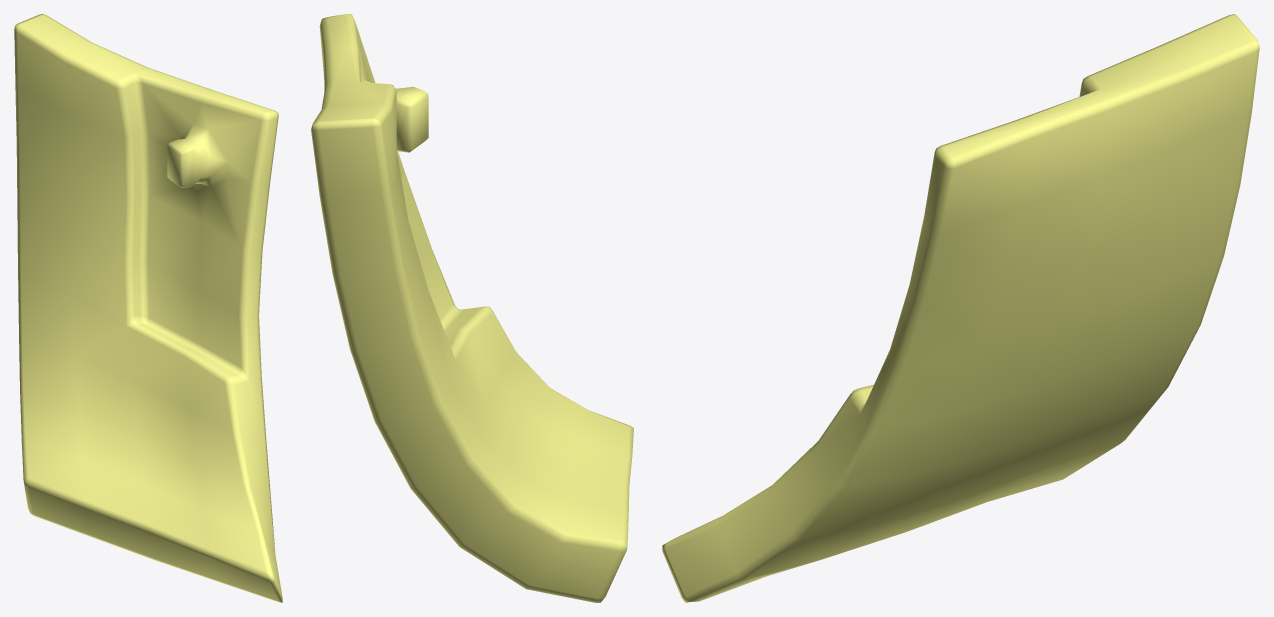
Rendered from Unit_Armor_HelmetR.FBX.
3 renders of one model, left to right at view 1: azimuth 30°, elevation 25°; view 2: azimuth 150°, elevation 25°; view 3: azimuth 270°, elevation 25°, orthographic. The views are drawn at different scales.
Visible parts, largest first — view 1: Unit_Armor_HelmetR; view 2: Unit_Armor_HelmetR; view 3: Unit_Armor_HelmetR.
Part boxes in pixels (x1=…): Unit_Armor_HelmetR: x1=14, y1=14, x2=282, y2=602; Unit_Armor_HelmetR: x1=311, y1=14, x2=633, y2=602; Unit_Armor_HelmetR: x1=662, y1=14, x2=1259, y2=602.
Size of the model in its own units: 10.43 by 18.08 by 17.58.
